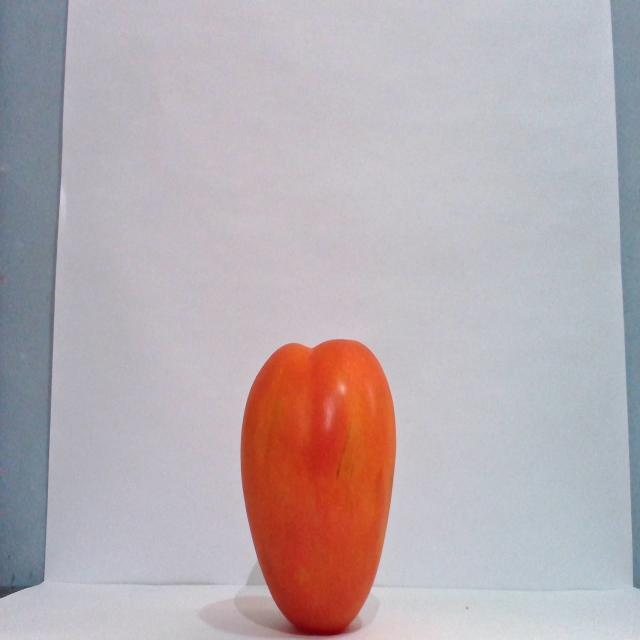Red: (238, 337, 397, 634)
